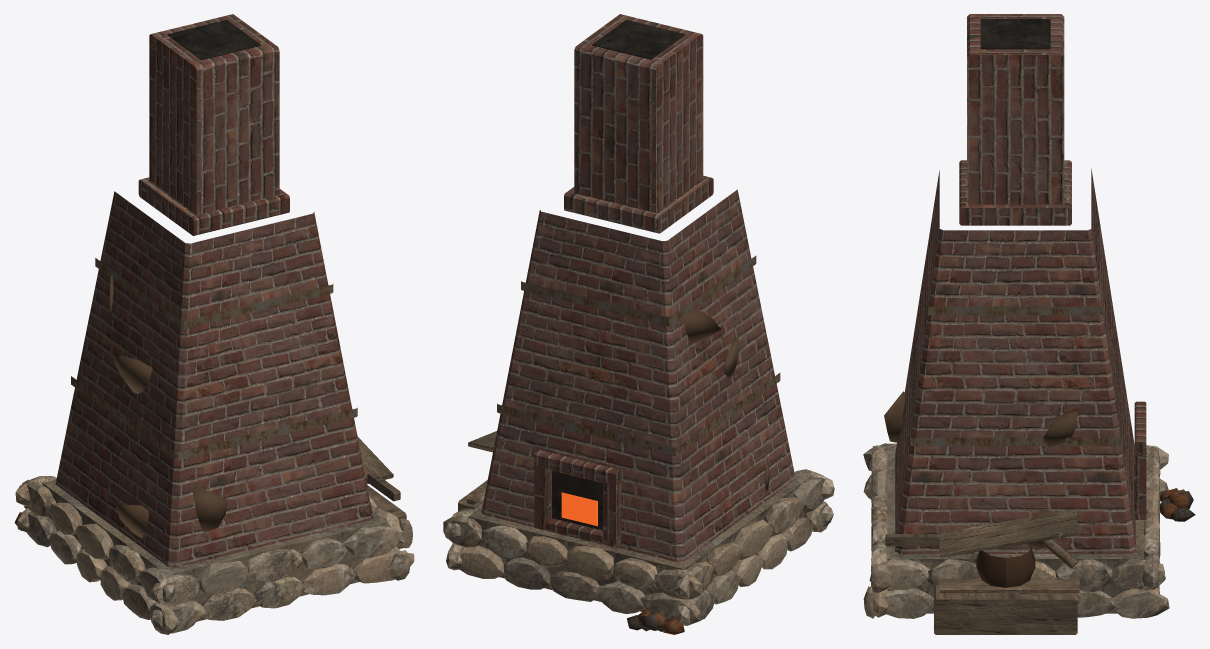
The model's file is b_furnace.glb.
3 renders of one model, left to right at view 1: azimuth 30°, elevation 25°; view 2: azimuth 150°, elevation 25°; view 3: azimuth 270°, elevation 25°, orthographic. The views are drawn at different scales.
Visible parts, largest first — view 1: b_furnace; view 2: b_furnace; view 3: b_furnace.
Part boxes in pixels (x1,y1,x2,y2): b_furnace: (14, 14, 414, 634); b_furnace: (443, 14, 834, 634); b_furnace: (863, 14, 1195, 634).
Size of the model in its own units: 1.72 by 2.99 by 1.71.
Materials: 6 (5 with a texture image).
